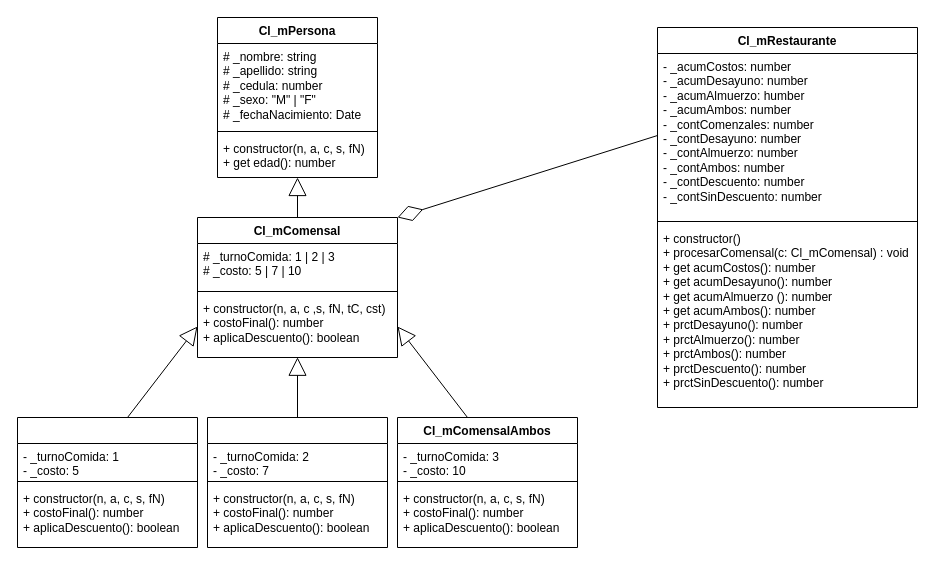
The diagram is 935 pixels wide and 568 high, and some of its shapes have lost their labels. The box of each missing label's shape, as (x1, y1, x2, y2) in pixels:
Cl_mComensalAlmuerzo: (206, 416, 388, 548)
Cl_mComensalDesayuno: (16, 416, 198, 548)
